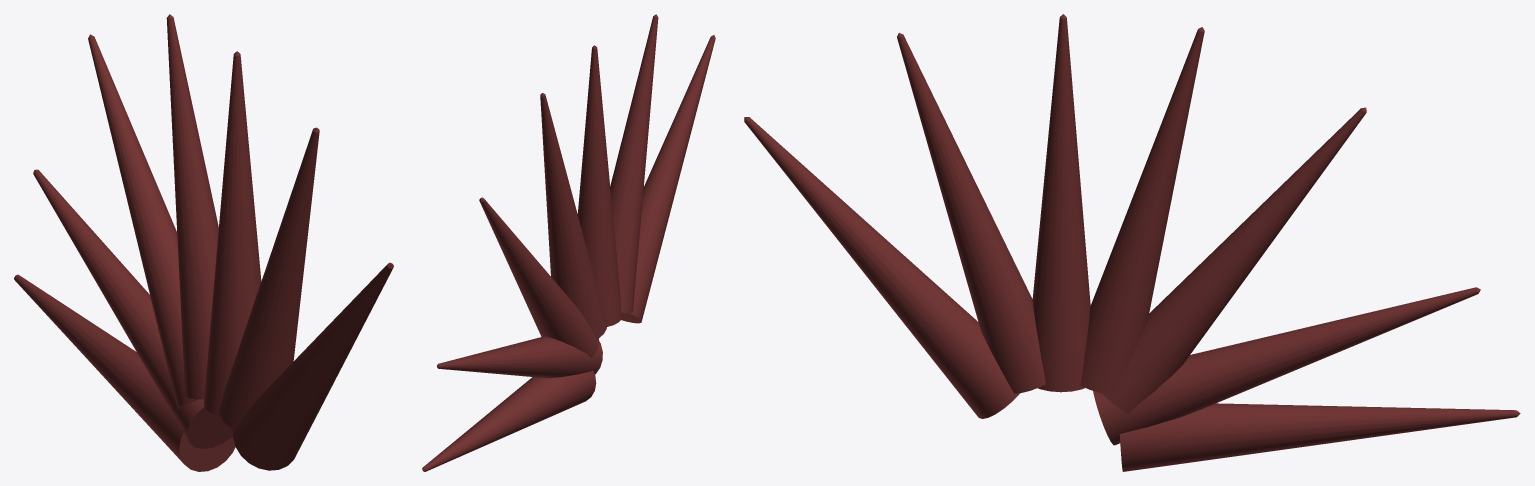
Rendered from crete.fbx.
3 views of the same model, side by side, from view 1: azimuth 30°, elevation 25°; view 2: azimuth 150°, elevation 25°; view 3: azimuth 270°, elevation 25° (orthographic). The views are drawn at different scales.
Parts seen in each view (by area): view 1: crete; view 2: crete; view 3: crete.
Boxes of the visible parts, x1,y1,x2,y2 form: crete: (14,14,393,471); crete: (422,14,715,471); crete: (744,14,1520,471).
Size of the model in its own units: 6.3 by 44.27 by 68.48.
